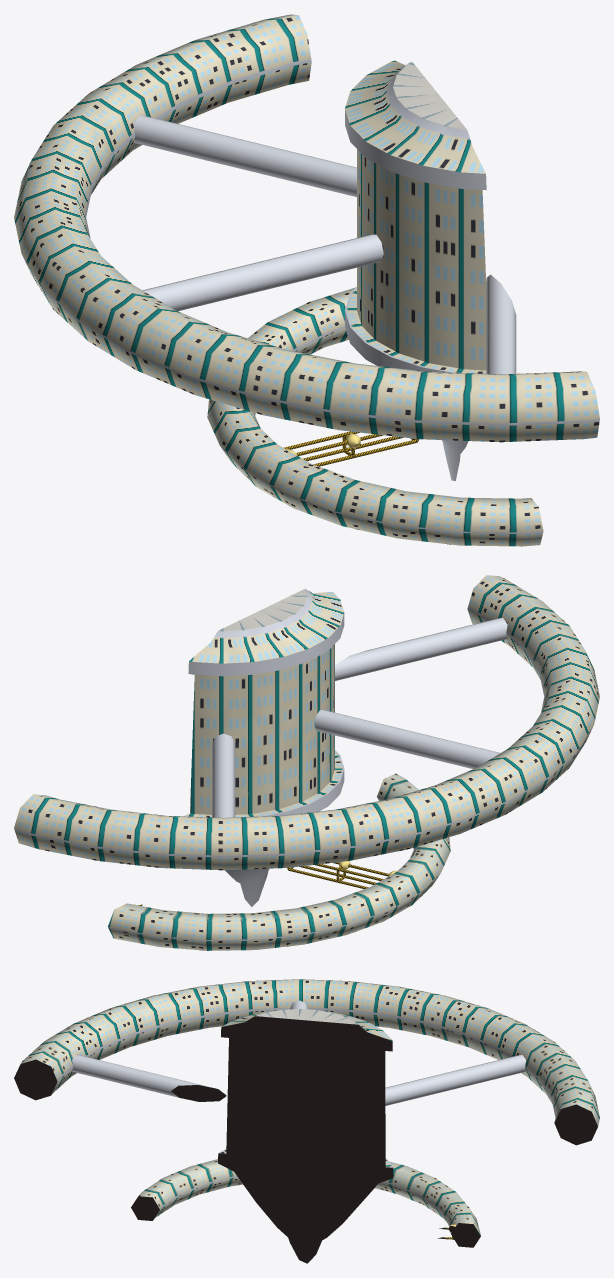
File: research_station_build2_debris1.obj
The picture shows the model from 3 angles, top to bottom: view 1: azimuth 30°, elevation 25°; view 2: azimuth 150°, elevation 25°; view 3: azimuth 270°, elevation 25°; orthographic projection. The views are drawn at different scales.
Visible parts, largest first — view 1: lab_ring, hub, lab_ring2, spoke, post; view 2: lab_ring, hub, lab_ring2, spoke, post; view 3: hub, lab_ring, lab_ring2, spoke.
Boxes of the visible parts, x1=… form: lab_ring: x1=14, y1=14, x2=599, y2=442; hub: x1=345, y1=60, x2=486, y2=480; lab_ring2: x1=207, y1=287, x2=543, y2=546; spoke: x1=133, y1=115, x2=516, y2=374; post: x1=284, y1=431, x2=417, y2=466; lab_ring: x1=14, y1=575, x2=599, y2=870; hub: x1=184, y1=589, x2=344, y2=906; lab_ring2: x1=108, y1=773, x2=450, y2=950; spoke: x1=212, y1=618, x2=507, y2=817; post: x1=138, y1=862, x2=388, y2=905; hub: x1=218, y1=1009, x2=393, y2=1263; lab_ring: x1=14, y1=979, x2=599, y2=1145; lab_ring2: x1=131, y1=1159, x2=480, y2=1247; spoke: x1=72, y1=1000, x2=525, y2=1105.
Size of the model in its own units: 86.62 by 71.17 by 158.
Materials: 5 (2 with a texture image).
